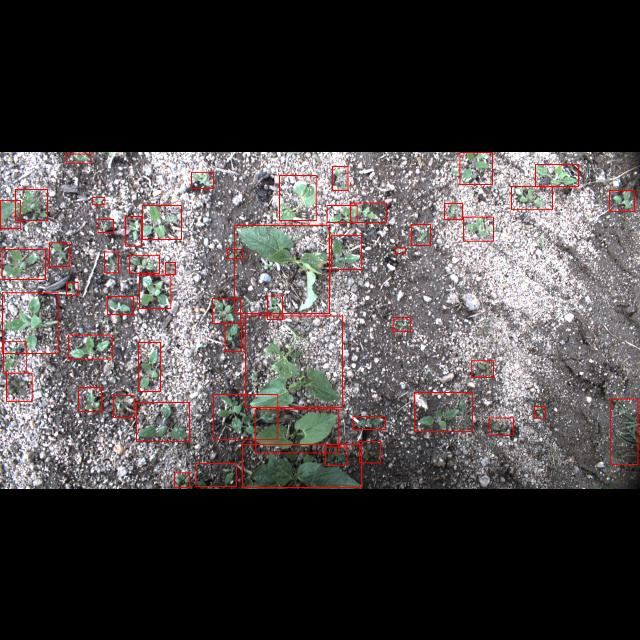crop: (245, 315, 342, 407), (234, 224, 330, 314), (242, 444, 362, 486), (255, 410, 339, 452), (610, 398, 638, 464)
weed: (2, 292, 58, 353), (212, 394, 278, 440), (414, 392, 472, 432), (136, 402, 190, 441), (280, 174, 316, 220), (142, 205, 182, 239), (2, 248, 46, 278), (331, 234, 361, 270), (139, 342, 161, 391), (68, 334, 112, 358), (15, 188, 47, 220), (460, 152, 492, 184), (140, 274, 170, 308), (512, 185, 552, 209), (536, 164, 578, 186), (196, 464, 236, 486), (6, 373, 32, 401), (350, 202, 386, 222), (464, 216, 494, 240), (212, 298, 240, 322), (4, 342, 26, 372), (78, 387, 102, 411), (0, 200, 20, 228), (129, 254, 159, 272), (327, 204, 357, 222), (106, 296, 134, 314), (224, 323, 242, 351), (114, 394, 134, 418), (125, 215, 141, 245), (50, 242, 70, 266), (610, 190, 634, 210), (411, 223, 431, 244), (353, 416, 385, 429), (332, 164, 348, 190), (360, 442, 380, 462), (472, 360, 494, 378), (325, 447, 347, 465), (489, 418, 513, 434), (191, 171, 213, 187), (268, 295, 282, 319), (444, 203, 462, 219), (104, 252, 118, 272), (174, 472, 190, 488), (393, 317, 411, 331), (66, 152, 90, 162), (98, 218, 114, 232), (66, 282, 78, 294), (534, 406, 546, 418), (228, 248, 242, 258), (165, 262, 175, 274), (92, 196, 106, 204), (395, 247, 405, 253)
